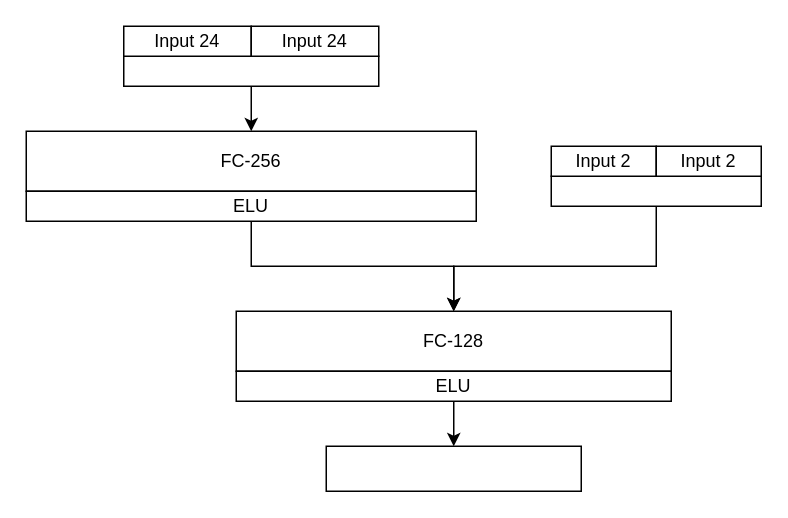
Some shapes in this 788 by 518 pixel diagram are drawn without their labels. Here are the shapes that lost their labels. From the top down, the centre of each, then its label:
At [250,70]: "Input 48".
At [655,190]: "Input 4".
At [453,468]: "FC-1".
